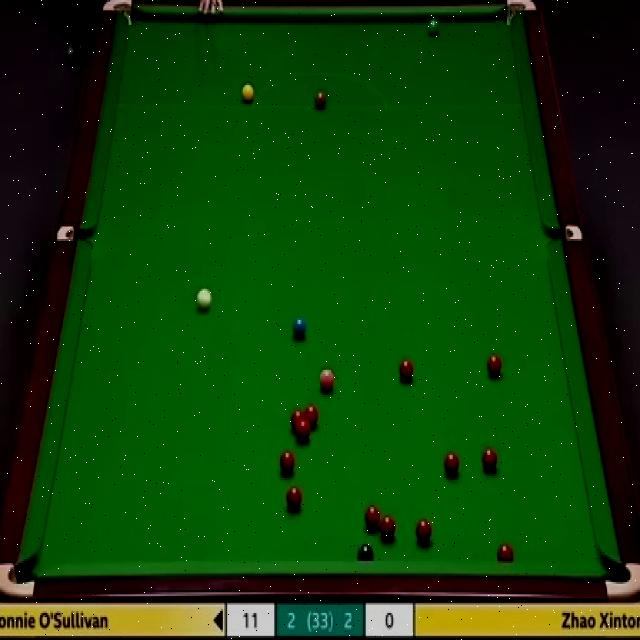black-ball: (356, 541, 374, 564)
blue-ball: (290, 316, 307, 342)
brown-ball: (312, 88, 327, 111)
green-ball: (426, 18, 442, 38)
pink-ball: (319, 364, 335, 392)
red-ball: (379, 512, 397, 544), (398, 356, 416, 386), (414, 518, 432, 546), (285, 486, 302, 514), (481, 446, 498, 473), (364, 504, 381, 531), (281, 449, 297, 475), (443, 452, 459, 477), (487, 352, 502, 378), (305, 405, 319, 430), (497, 542, 514, 562), (291, 409, 304, 430), (297, 422, 310, 442)
white-ball: (195, 287, 212, 312)
yellow-ball: (239, 82, 254, 103)
